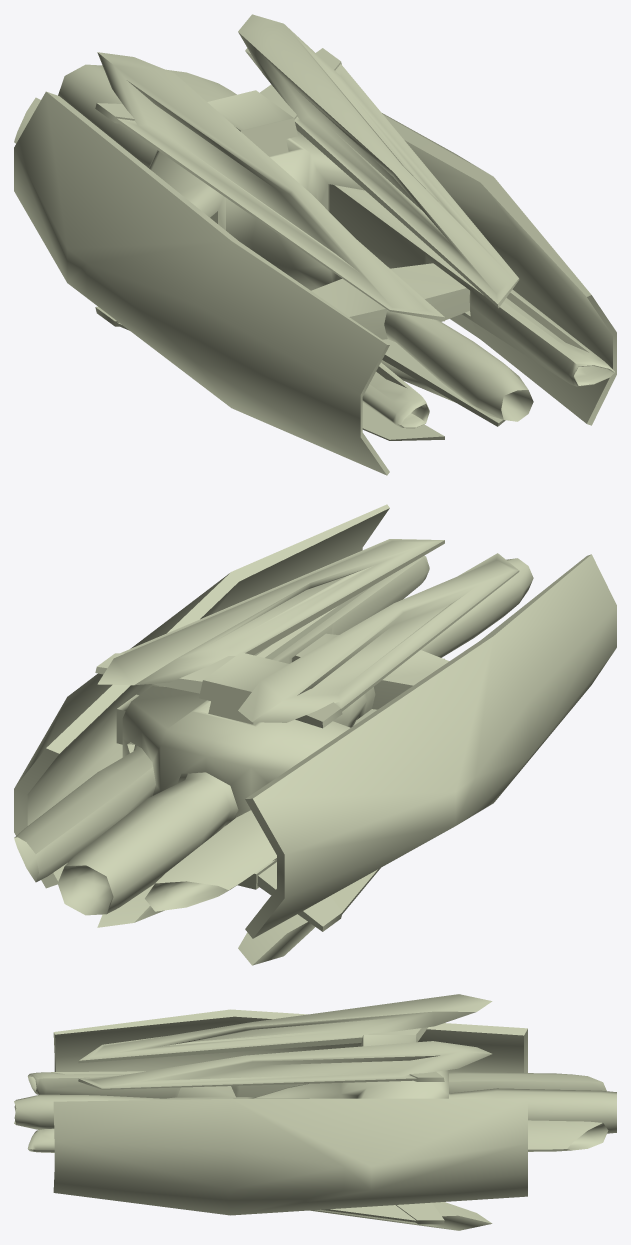
Rendered from dreadnought.obj.
3 views of the same model, one above another, from view 1: azimuth 30°, elevation 25°; view 2: azimuth 150°, elevation 25°; view 3: azimuth 270°, elevation 25° (orthographic). The views are drawn at different scales.
Parts seen in each view (by area): view 1: Cube1_cut3; view 2: Cube1_cut3; view 3: Cube1_cut3.
Boxes of the visible parts, x1,y1,x2,y2 form: Cube1_cut3: (14, 14, 616, 475); Cube1_cut3: (14, 504, 616, 965); Cube1_cut3: (14, 994, 616, 1230).
Bounding box in the file's own units: 1.02 × 0.6415 × 1.96.
